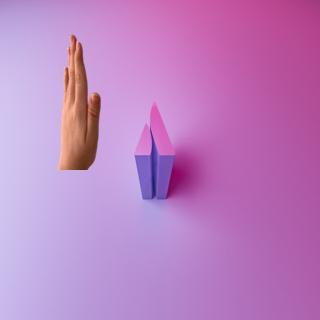Right: (53, 35, 116, 179)
